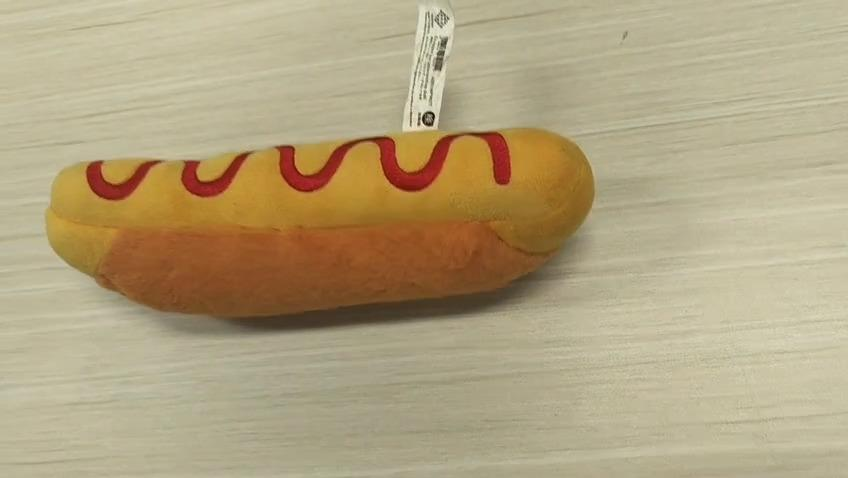hotdog: (44, 124, 595, 320)
